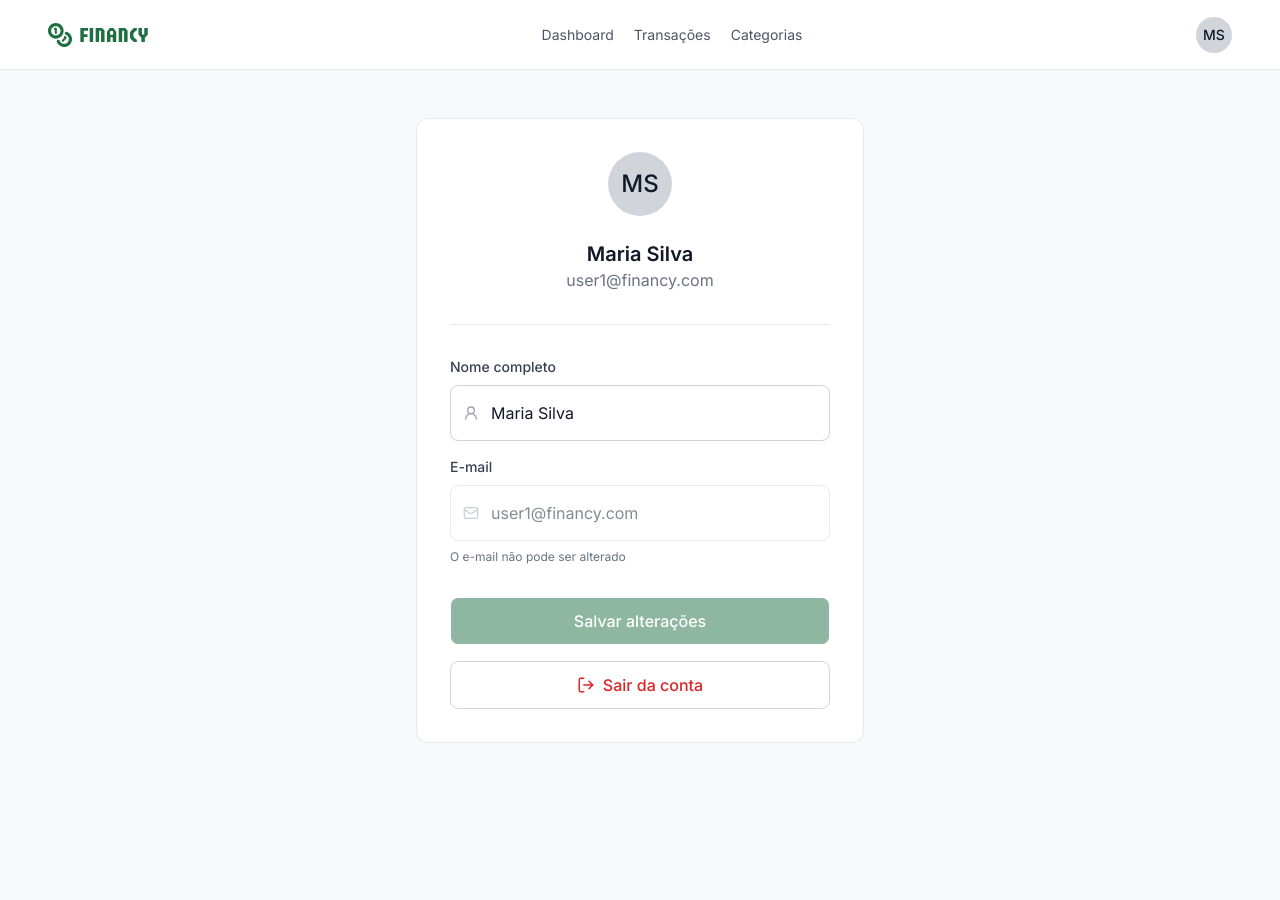
Test: Profile page › faz logout via mutation e redireciona para login
Click the button "Sair da conta": [640, 685] box [450,661,830,709]
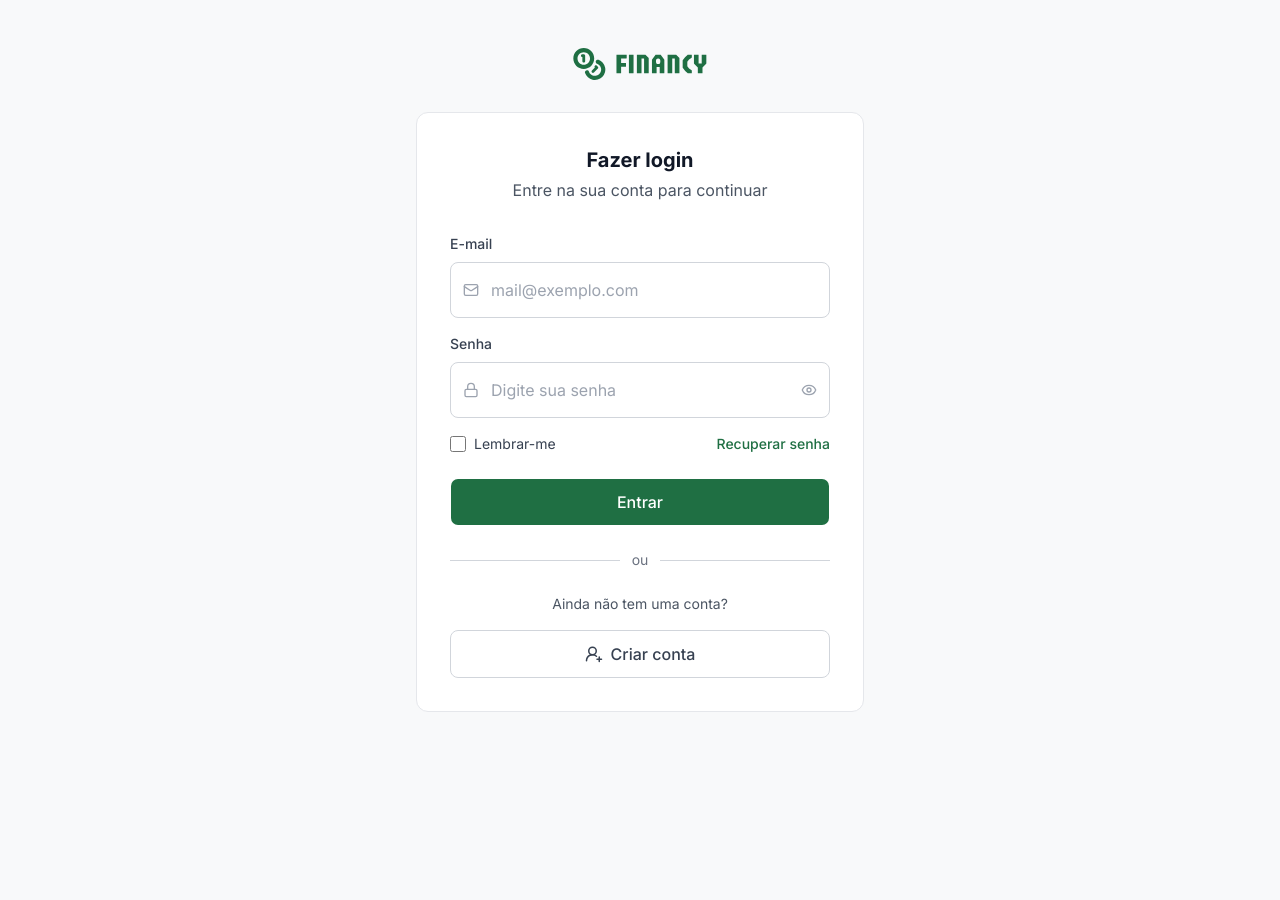
Result: the heading "Fazer login" is shown at [586,148,694,172]
